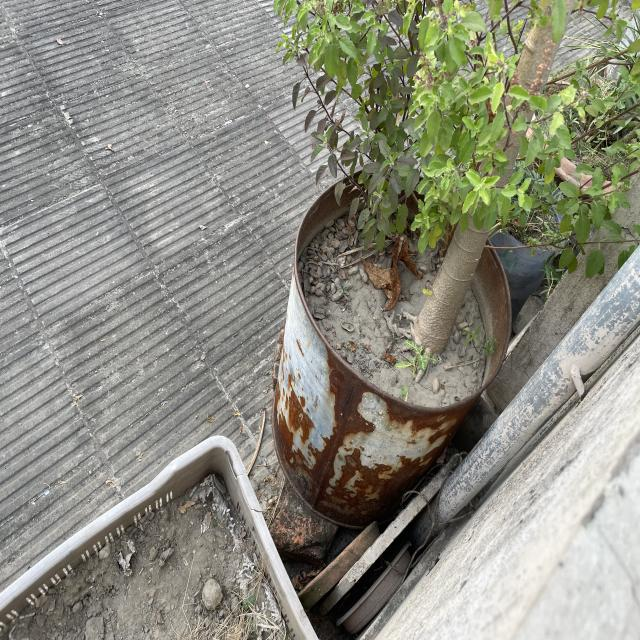Breeding Place: (271, 167, 495, 537)
